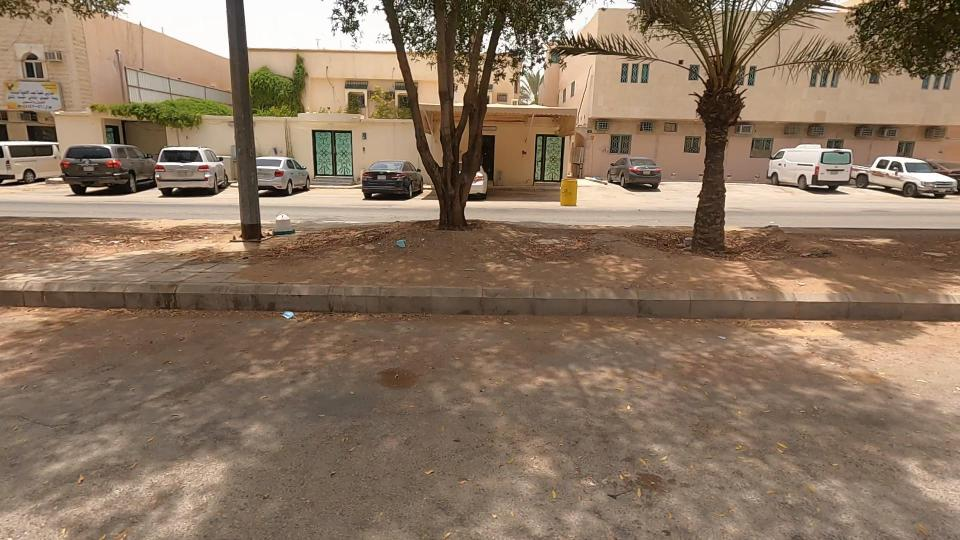GARBAGE: (255, 266, 323, 360), (368, 211, 436, 271)
